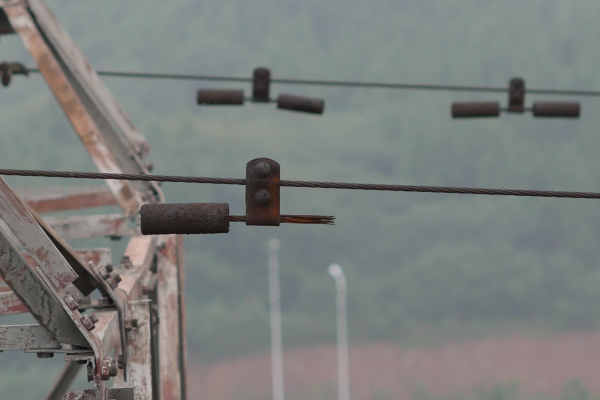damper: (192, 64, 327, 116), (447, 72, 582, 121)
damper_defect: (136, 151, 340, 241)
